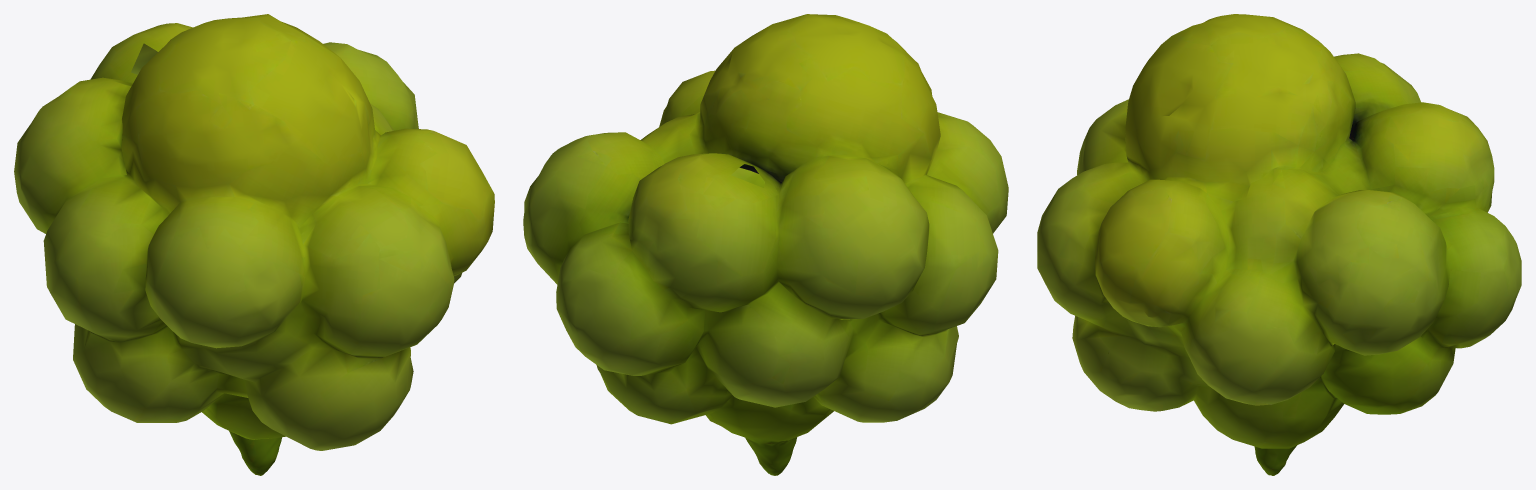
Rendered from poison-cloud.glb.
The picture shows the model from 3 angles, left to right: view 1: azimuth 30°, elevation 25°; view 2: azimuth 150°, elevation 25°; view 3: azimuth 270°, elevation 25°; orthographic projection. The views are drawn at different scales.
Parts seen in each view (by area): view 1: tripo_node_203dbb84-af0a-466d-8e14-074ce5c1fff8; view 2: tripo_node_203dbb84-af0a-466d-8e14-074ce5c1fff8; view 3: tripo_node_203dbb84-af0a-466d-8e14-074ce5c1fff8.
Boxes of the visible parts, x1,y1,x2,y2 form: tripo_node_203dbb84-af0a-466d-8e14-074ce5c1fff8: [14, 14, 494, 475]; tripo_node_203dbb84-af0a-466d-8e14-074ce5c1fff8: [523, 14, 1008, 475]; tripo_node_203dbb84-af0a-466d-8e14-074ce5c1fff8: [1037, 14, 1521, 475].
Size of the model in its own units: 0.9217 by 0.9941 by 1.
1 material, 1 textured.
